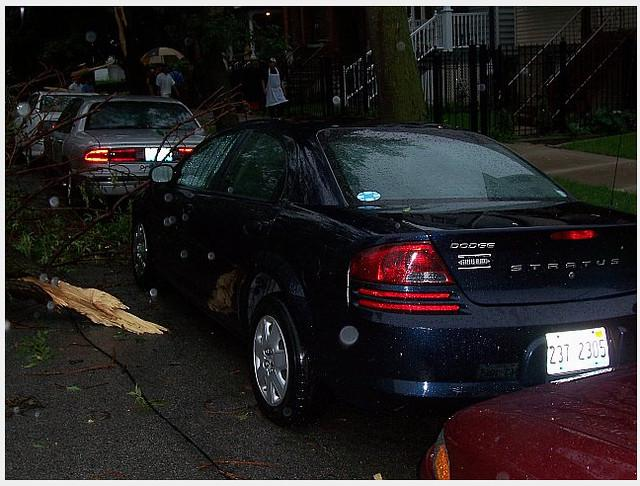doorouter-dent: (138, 186, 216, 296)
